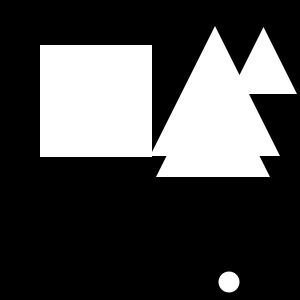circle: (40, 45, 152, 157)
rectangle: (218, 272, 240, 292)
triangle: (150, 26, 280, 156), (156, 63, 270, 177), (230, 27, 297, 94)
